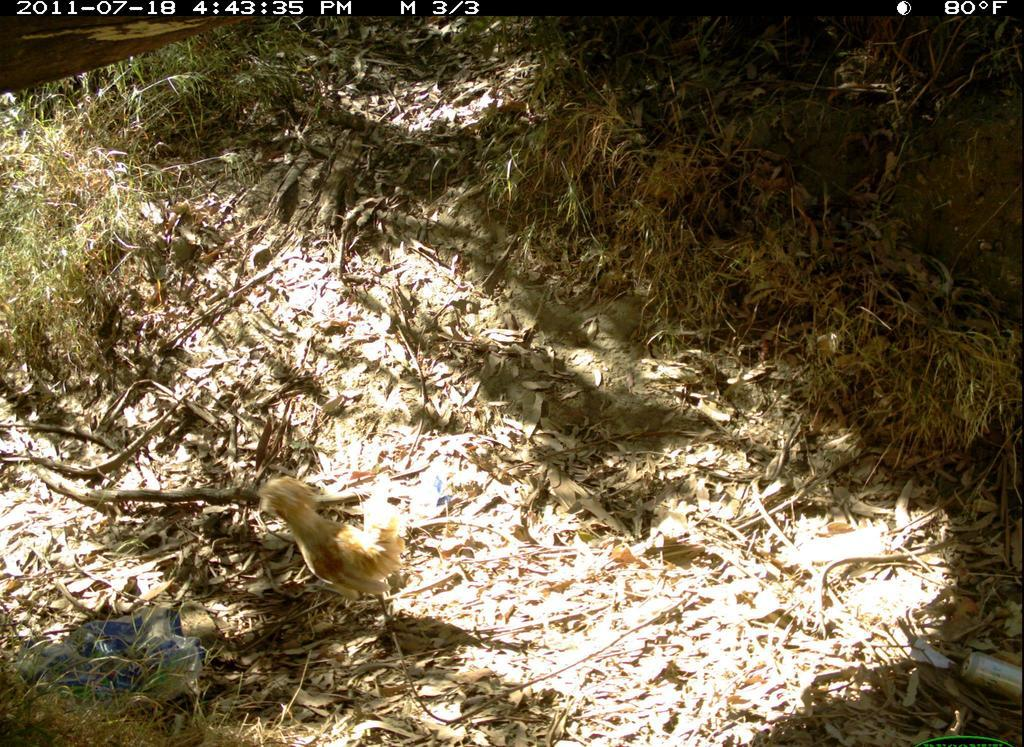bird: (253, 463, 428, 605)
